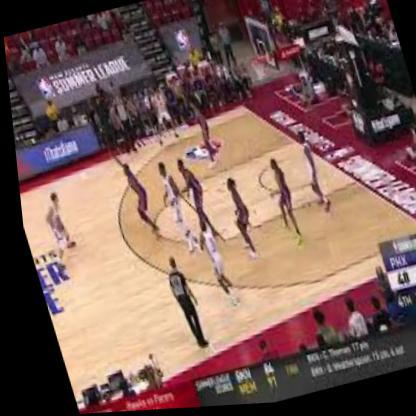basketball: (48, 219, 60, 234)
rim: (248, 56, 264, 71)
